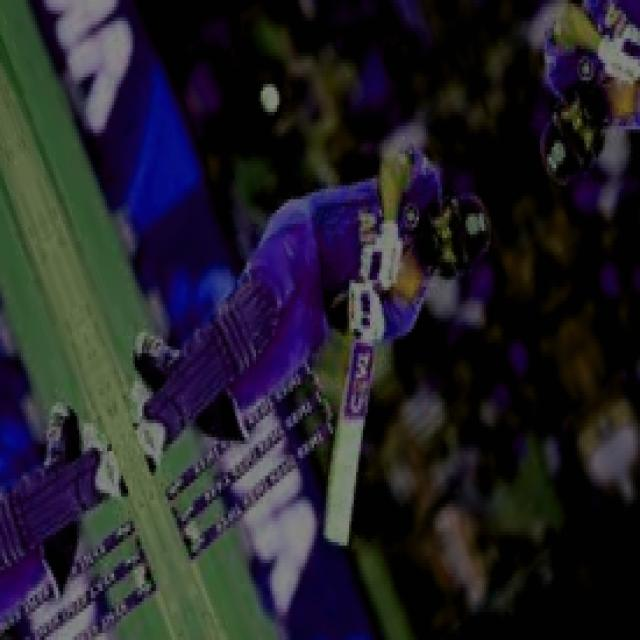toe: (322, 526, 350, 550)
